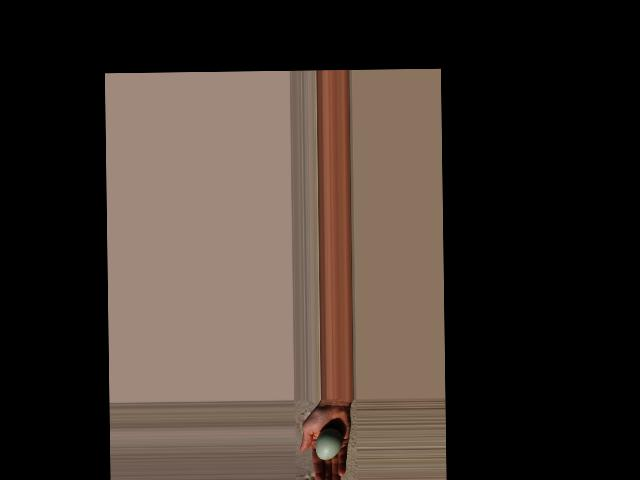egg: (316, 428, 343, 459)
